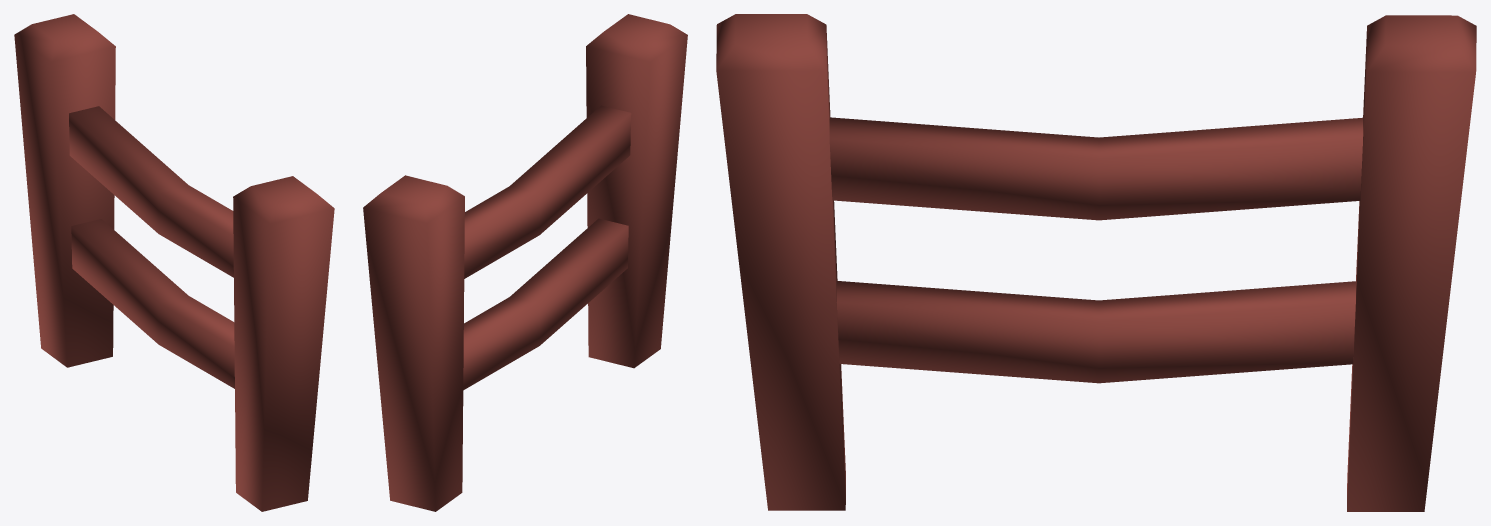
Rendered from Fence_01.fbx.
The picture shows the model from 3 angles, left to right: view 1: azimuth 30°, elevation 25°; view 2: azimuth 150°, elevation 25°; view 3: azimuth 270°, elevation 25°; orthographic projection. The views are drawn at different scales.
Visible parts, largest first — view 1: Fence_01; view 2: Fence_01; view 3: Fence_01.
Part boxes in pixels (bbox=[...]): Fence_01: bbox=[14, 14, 334, 511]; Fence_01: bbox=[363, 14, 687, 511]; Fence_01: bbox=[716, 14, 1476, 511].
Bounding box in the file's own units: 25.92 × 117 × 174.
